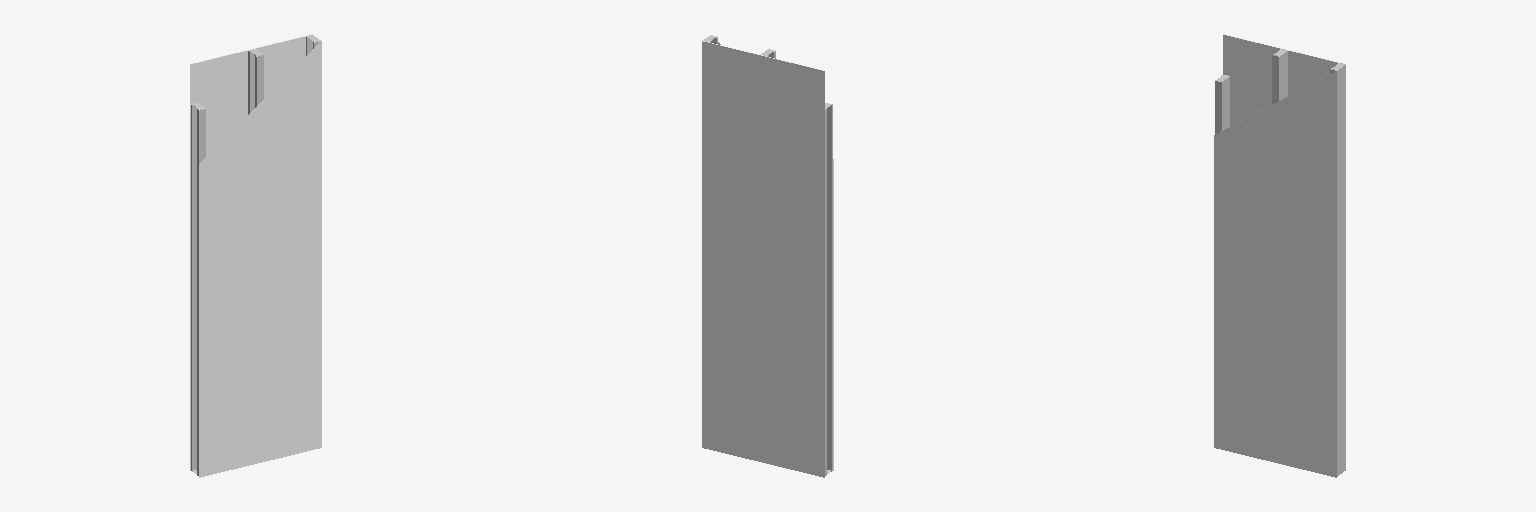
Rendered from SteelStuds.obj.
The picture shows the model from 3 angles: view 1: azimuth 30°, elevation 25°; view 2: azimuth 150°, elevation 25°; view 3: azimuth 330°, elevation 25°; orthographic projection.
Parts seen in each view (by area): view 1: SteelStuds.obj; view 2: SteelStuds.obj; view 3: SteelStuds.obj.
Part boxes in pixels (bbox=[...]): SteelStuds.obj: bbox=[190, 34, 321, 477]; SteelStuds.obj: bbox=[702, 34, 833, 477]; SteelStuds.obj: bbox=[1214, 34, 1345, 477].
Bounding box in the file's own units: 0.8644 × 2.74 × 0.1159.